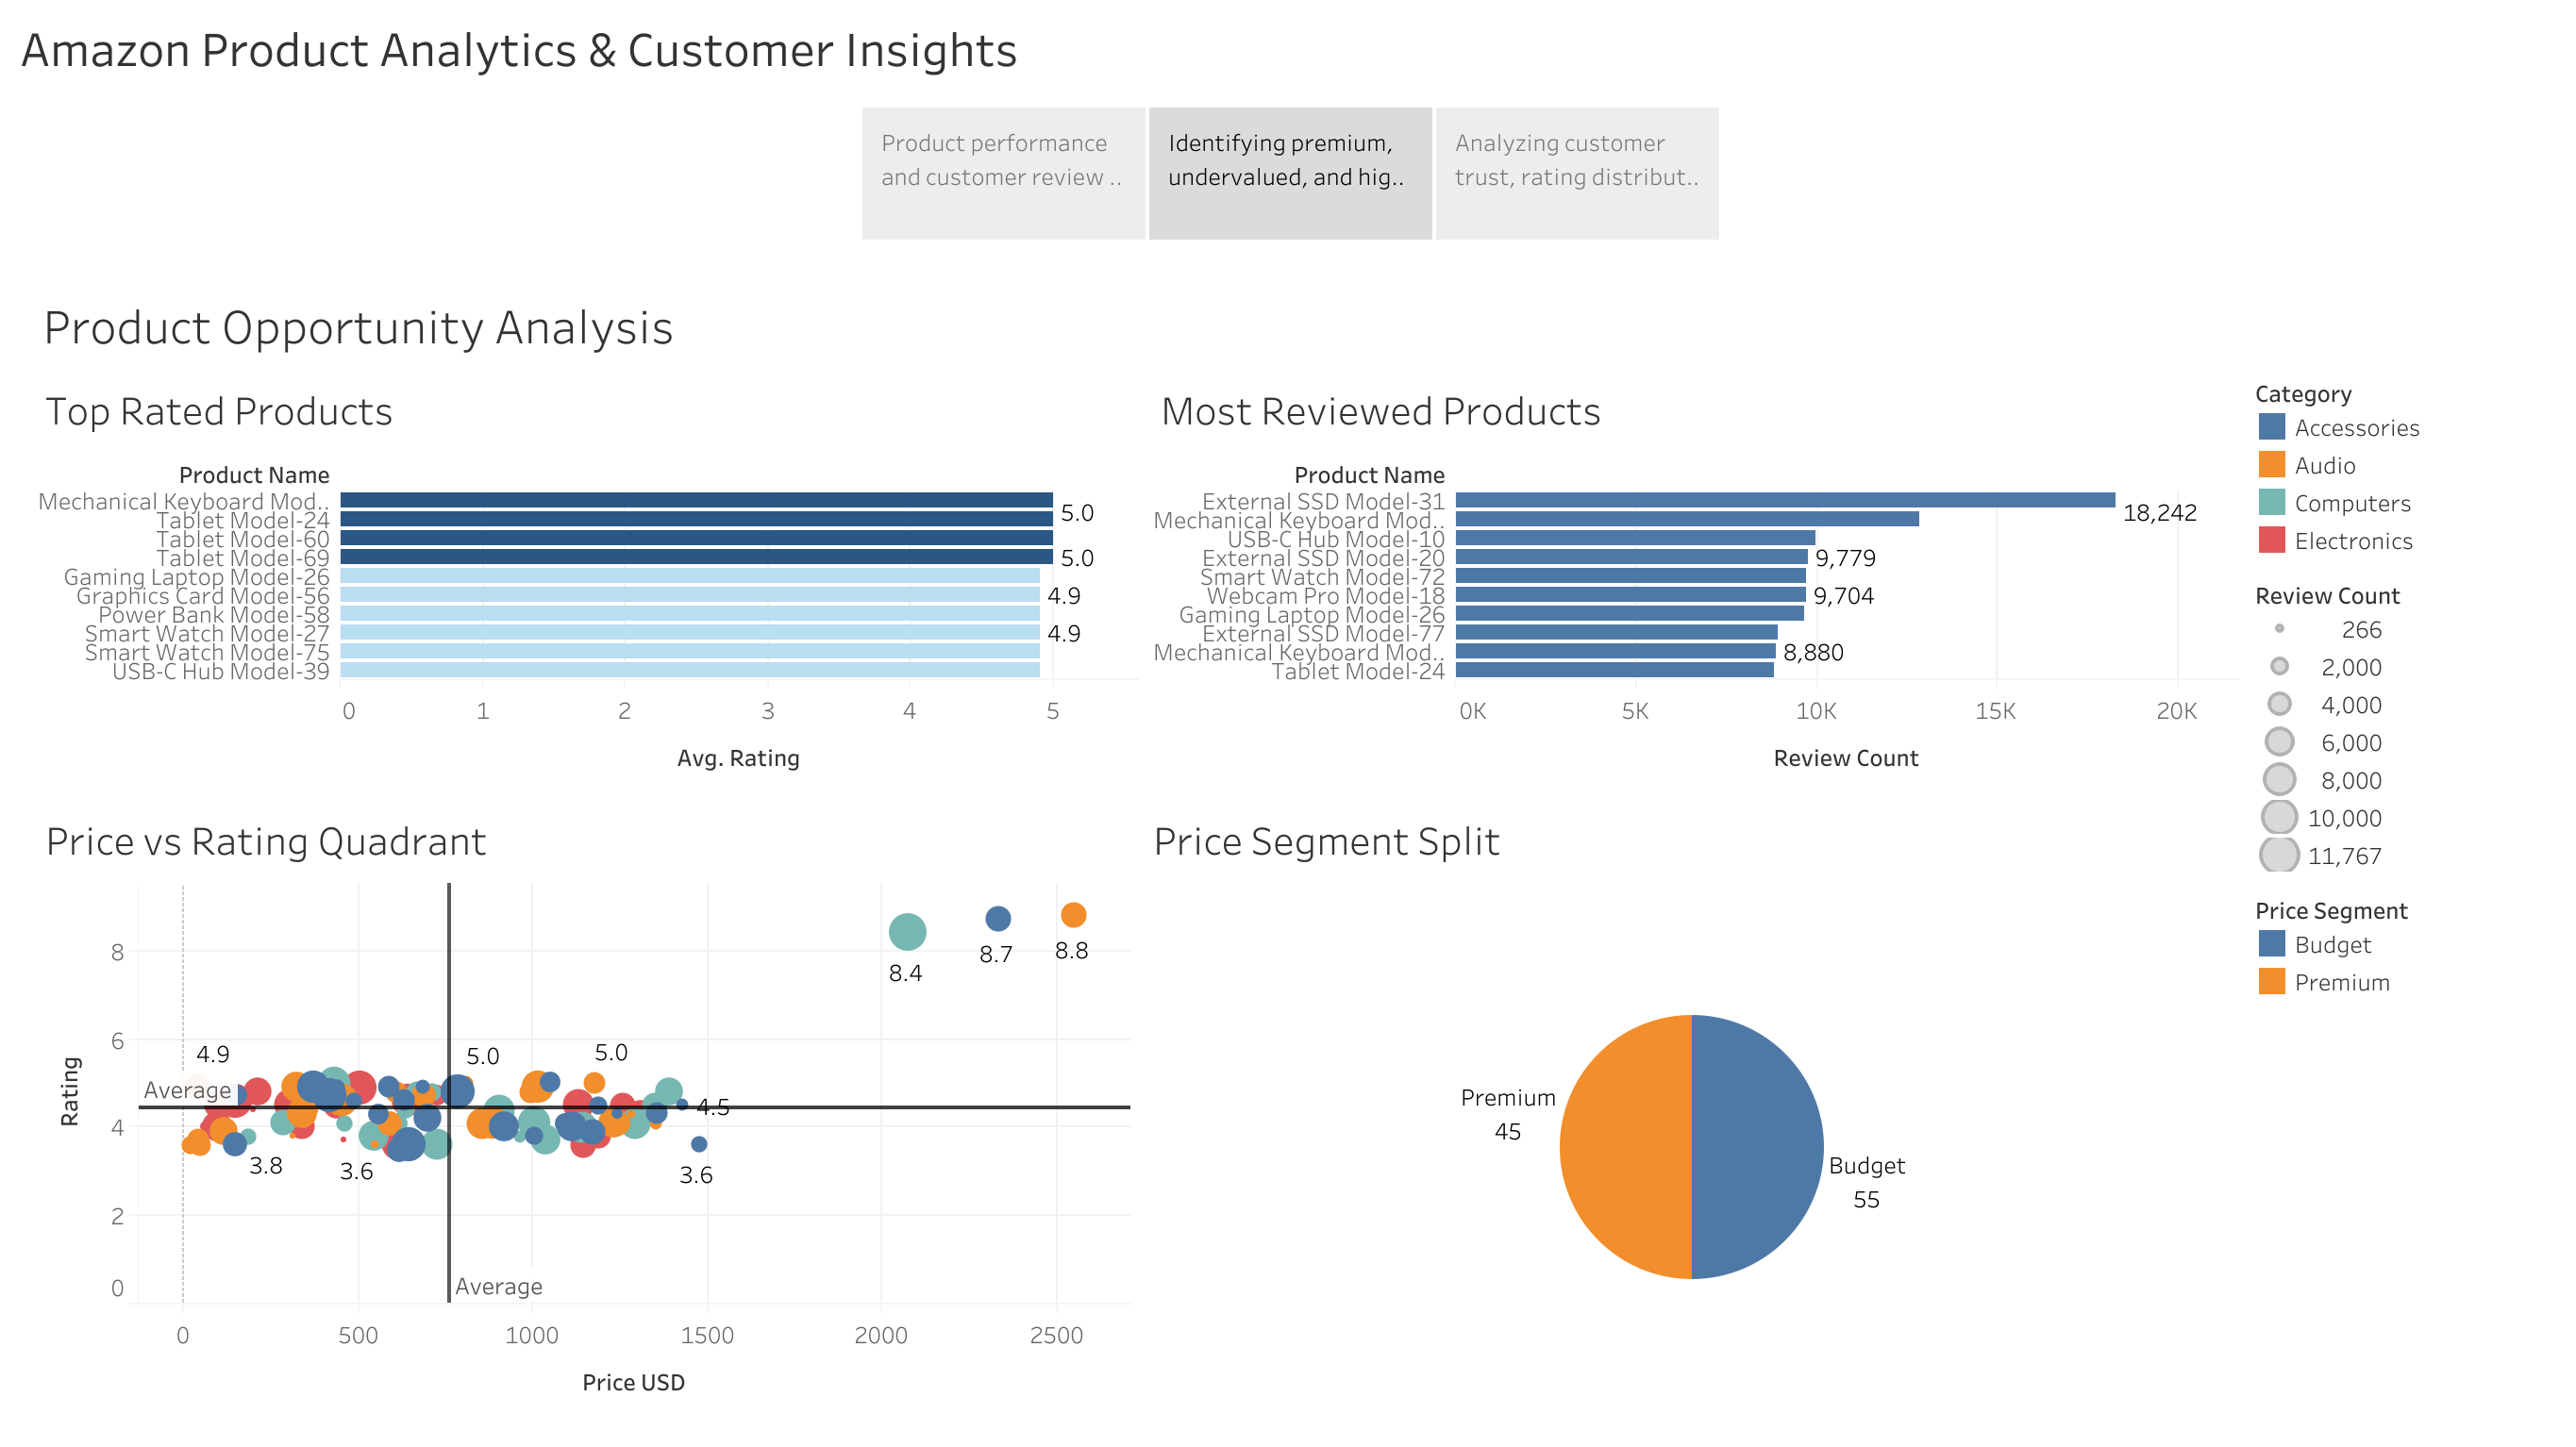

This screenshot's page, from the dashboard's own definition file:
{"tool":"tableau","page":{"name":"Product Opportunity Analysis","canvas":[1000,1000],"units":"permille","ordinal":2},"visuals":[{"type":"title","box":[6.2,11.2,987.7,58.6]},{"type":"worksheet","title":"Top Rated Products","mark":"Automatic","rows":["Product_Name"],"cols":["Rating"],"box":[6.2,69.7,435.5,375]},{"type":"worksheet","title":"Most Reviewed Products","mark":"Automatic","rows":["Product_Name"],"cols":["Review_Count"],"box":[441.6,69.7,429.1,375]},{"type":"legend","title":"Price vs Rating Quadrant","param":"[federated.1dmpaba030k53b1ellbzi0w4fpez].[none:Category:nk]","box":[870.8,69.7,123.1,147.8]},{"type":"legend","title":"Price vs Rating Quadrant","param":"[federated.1dmpaba030k53b1ellbzi0w4fpez].[sum:Review_Count:qk]","box":[870.8,217.6,123.1,231.5]},{"type":"worksheet","title":"Price vs Rating Quadrant","mark":"Circle","rows":["Rating"],"cols":["Price_USD"],"box":[6.2,444.7,432.2,544.1]},{"type":"worksheet","title":"Price Segment Split","mark":"Pie","box":[438.4,444.7,432.4,544.1]},{"type":"legend","title":"Price Segment Split","param":"[federated.1dmpaba030k53b1ellbzi0w4fpez].[none:Calculation_90071997499269120:nk]","box":[870.8,449.1,123.1,92]}]}

Visuals, with their boxes on the dashboard's canvas, which has no fixed pixel size, in thousandths of its width and height (x1, y1, x2, y2). These are canvas units, not pixel positions in the 2576x1447 screenshot, which may show the page scaled, cropped or inside an application window:
title: left=6, top=11, right=994, bottom=70
"Top Rated Products" worksheet: left=6, top=70, right=442, bottom=445
"Most Reviewed Products" worksheet: left=442, top=70, right=871, bottom=445
"Price vs Rating Quadrant" legend: left=871, top=70, right=994, bottom=218
"Price vs Rating Quadrant" legend: left=871, top=218, right=994, bottom=449
"Price vs Rating Quadrant" worksheet (Circle marks): left=6, top=445, right=438, bottom=989
"Price Segment Split" worksheet (Pie marks): left=438, top=445, right=871, bottom=989
"Price Segment Split" legend: left=871, top=449, right=994, bottom=541
